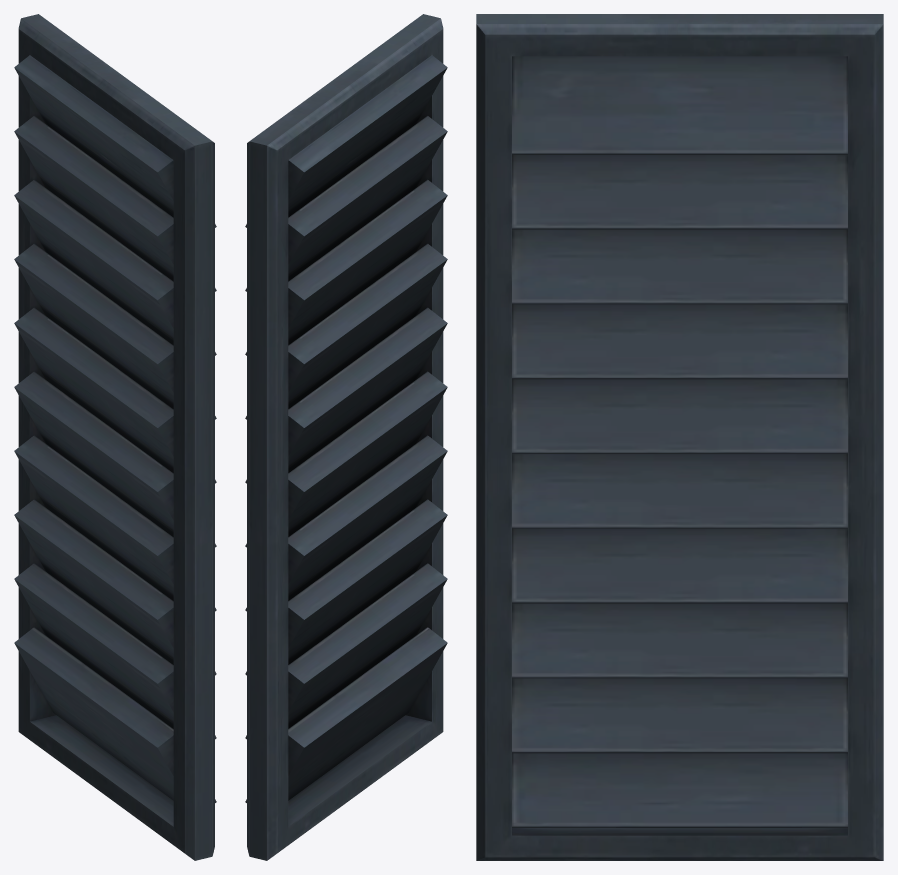
3 renders of one model, left to right at view 1: azimuth 30°, elevation 25°; view 2: azimuth 150°, elevation 25°; view 3: azimuth 270°, elevation 25°, orthographic. The views are drawn at different scales.
Parts seen in each view (by area): view 1: body0_model0_lod0_mesh0; view 2: body0_model0_lod0_mesh0; view 3: body0_model0_lod0_mesh0.
Boxes of the visible parts, x1,y1,x2,y2 form: body0_model0_lod0_mesh0: (14,14,216,860); body0_model0_lod0_mesh0: (245,14,447,860); body0_model0_lod0_mesh0: (476,14,883,860).
Size of the model in its own units: 5.89 by 68.07 by 30.01.
1 material, 1 textured.
